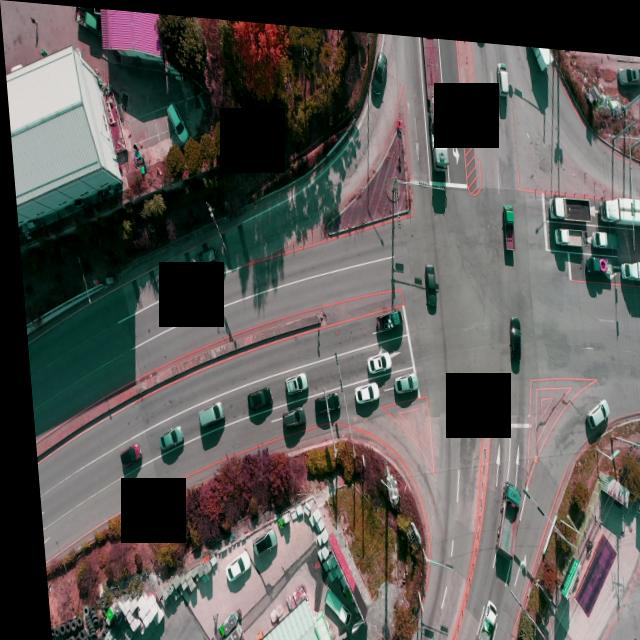car: (366, 43, 389, 92), (217, 549, 244, 583), (166, 101, 187, 142), (580, 387, 605, 421), (306, 385, 335, 413), (192, 397, 219, 426), (153, 423, 179, 451), (422, 256, 436, 307), (190, 243, 215, 271), (244, 527, 269, 555), (361, 343, 387, 369), (277, 365, 303, 391), (347, 373, 373, 399), (274, 402, 300, 428), (239, 384, 266, 409), (387, 365, 413, 390), (113, 444, 137, 468), (504, 310, 518, 350), (617, 53, 640, 75), (497, 55, 509, 89), (638, 224, 640, 244)
large_truck: (422, 31, 448, 163)
medium_truck: (481, 471, 520, 555), (597, 185, 640, 220), (548, 187, 591, 214), (620, 249, 640, 273)
small_truck: (465, 591, 490, 640), (314, 580, 342, 620), (499, 194, 514, 244), (370, 300, 397, 327), (553, 218, 582, 240), (590, 218, 618, 240), (74, 6, 99, 30), (582, 245, 608, 267), (533, 38, 555, 63)
